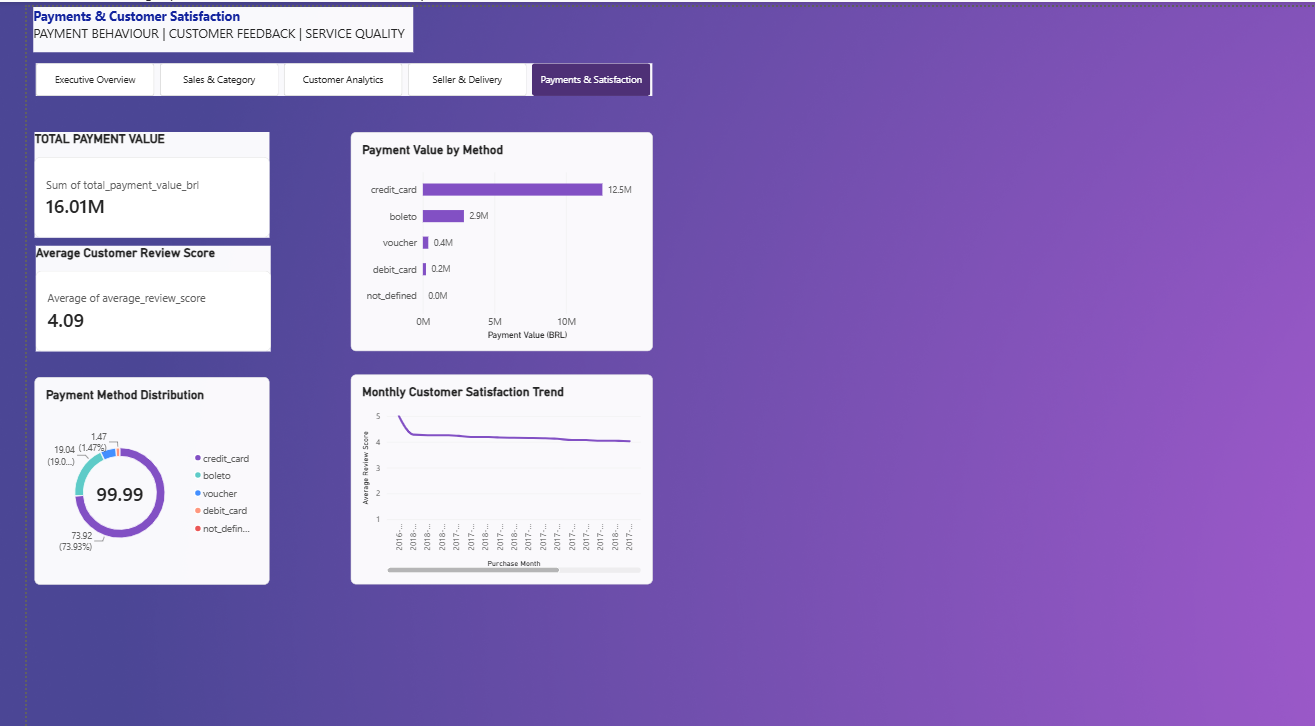

This screenshot's page, from the dashboard's own definition file:
{"tool":"powerbi","page":{"name":"Payments & Satisfaction","canvas":[1920,1080],"ordinal":4},"visuals":[{"type":"textbox","box":[10,0,557.5,66.2],"z":0},{"type":"cardVisual","title":"TOTAL PAYMENT VALUE","fields":{"Data":["Sum(analytics vw_executive_kpi_summary.total_payment_value_brl)"]},"box":[11.7,183.3,345,155],"z":1000},{"type":"cardVisual","title":"Average Customer Review Score","fields":{"Data":["Avg(analytics vw_executive_kpi_summary.average_review_score)"]},"box":[13.3,350,345,155],"z":2000},{"type":"donutChart","title":"Payment Method Distribution","fields":{"Category":["analytics vw_payment_performance.payment_type"],"Y":["Sum(analytics vw_payment_performance.payment_record_percentage)"]},"box":[11.7,543.3,345,305],"z":3000},{"type":"clusteredBarChart","title":"Payment Value by Method","fields":{"Category":["analytics vw_payment_performance.payment_type"],"Y":["Sum(analytics vw_payment_performance.total_payment_value_brl)"]},"box":[475,183.3,443.3,321.7],"z":4000},{"type":"lineChart","title":"Monthly Customer Satisfaction Trend","fields":{"Category":["analytics vw_customer_satisfaction.year_month"],"Y":["Avg(analytics vw_customer_satisfaction.average_review_score)"]},"box":[475,540,443,308],"z":5000},{"type":"pageNavigator","box":[13.3,81.7,905,48.3],"z":6000}]}

Visuals, with their boxes in screenshot pixels (x1, y1, x2, y2), scaled from the page's 1920x1080 canvas onto the 1315x726 screenshot:
textbox: {"left": 7, "top": 0, "right": 389, "bottom": 45}
"TOTAL PAYMENT VALUE" cardVisual: {"left": 8, "top": 123, "right": 244, "bottom": 227}
"Average Customer Review Score" cardVisual: {"left": 9, "top": 235, "right": 245, "bottom": 339}
"Payment Method Distribution" donutChart: {"left": 8, "top": 365, "right": 244, "bottom": 570}
"Payment Value by Method" clusteredBarChart: {"left": 325, "top": 123, "right": 629, "bottom": 339}
"Monthly Customer Satisfaction Trend" lineChart: {"left": 325, "top": 363, "right": 629, "bottom": 570}
pageNavigator: {"left": 9, "top": 55, "right": 629, "bottom": 87}
